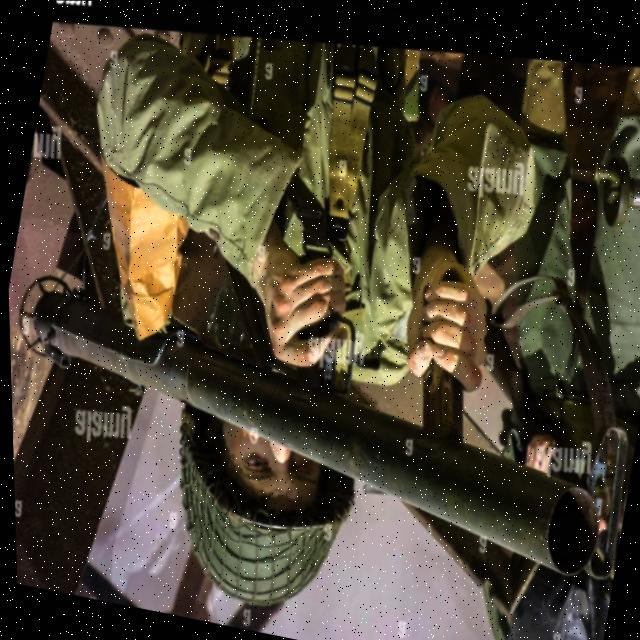rocket: (5, 204, 640, 640)
